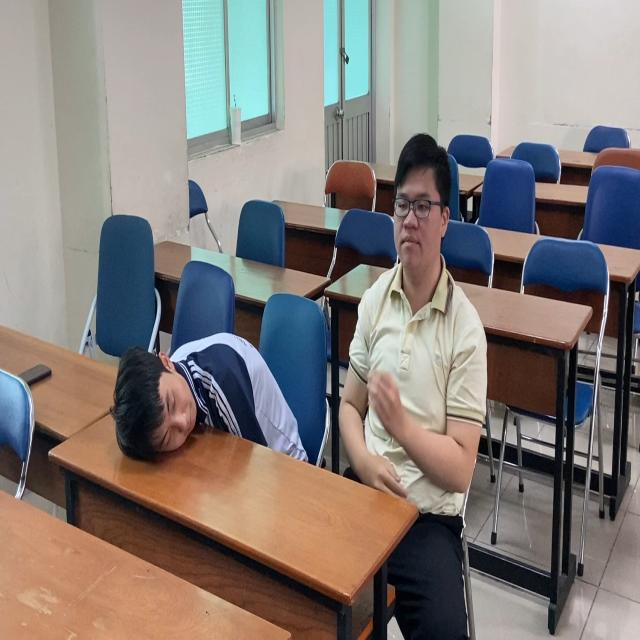sleep: (100, 321, 315, 490)
